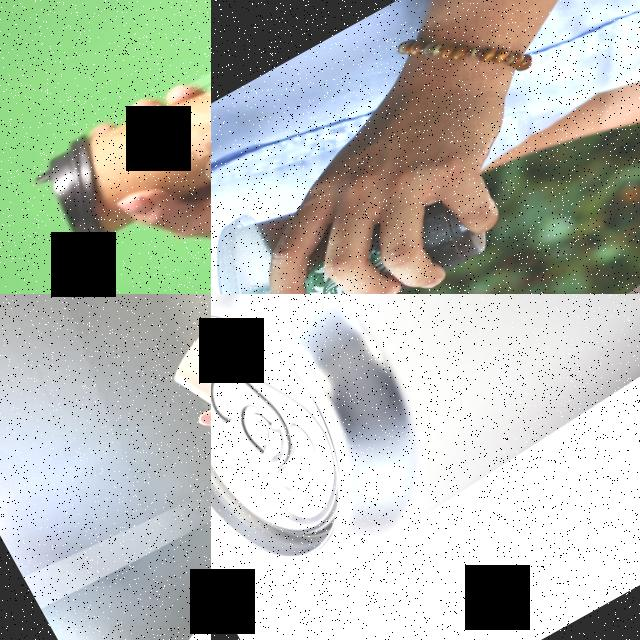can: (211, 294, 640, 613)
cup: (211, 114, 496, 294), (32, 34, 211, 260), (157, 294, 211, 568)
